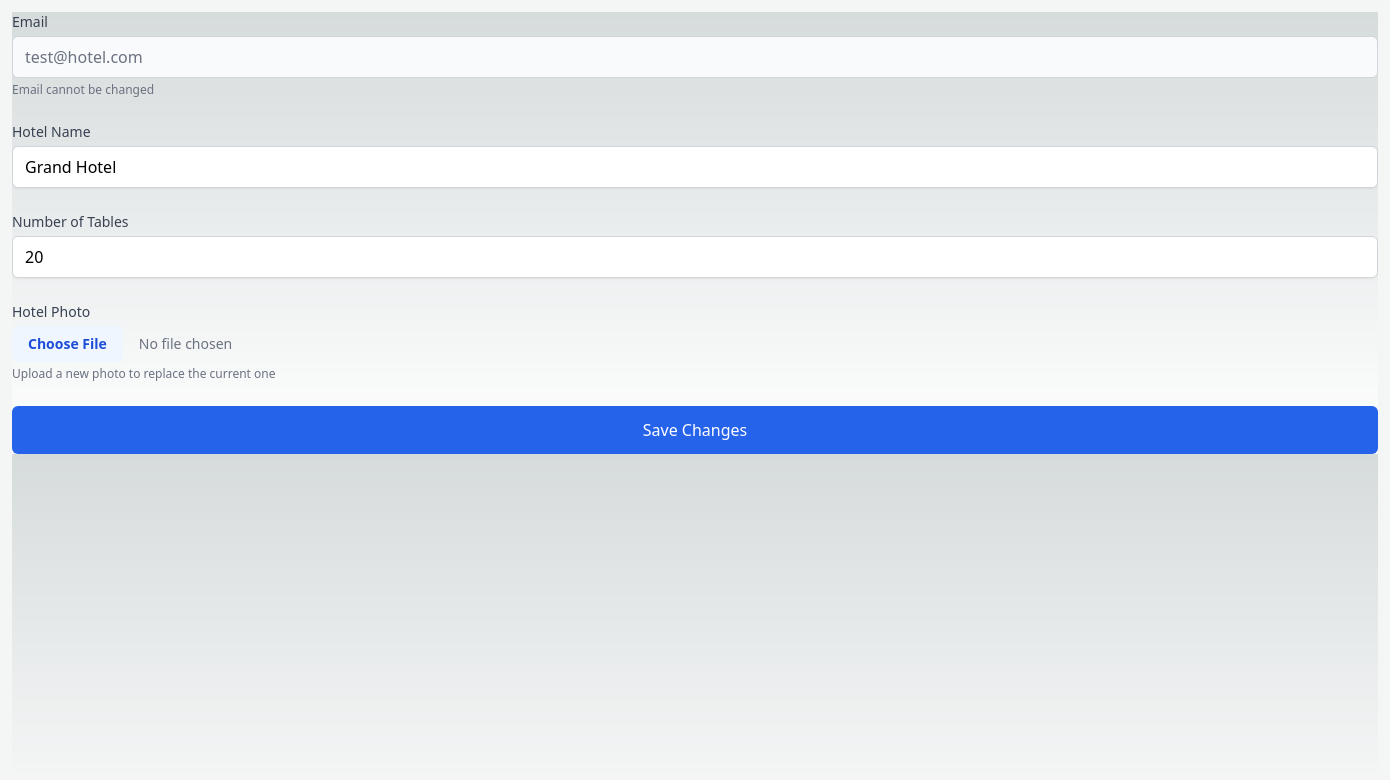
ProfileForm › disables submit button while submitting
Type "Updated Hotel" into the field labelled "Hotel Name".
click(695, 167); type("Updated Hotel")  # box [12, 146, 1378, 188]
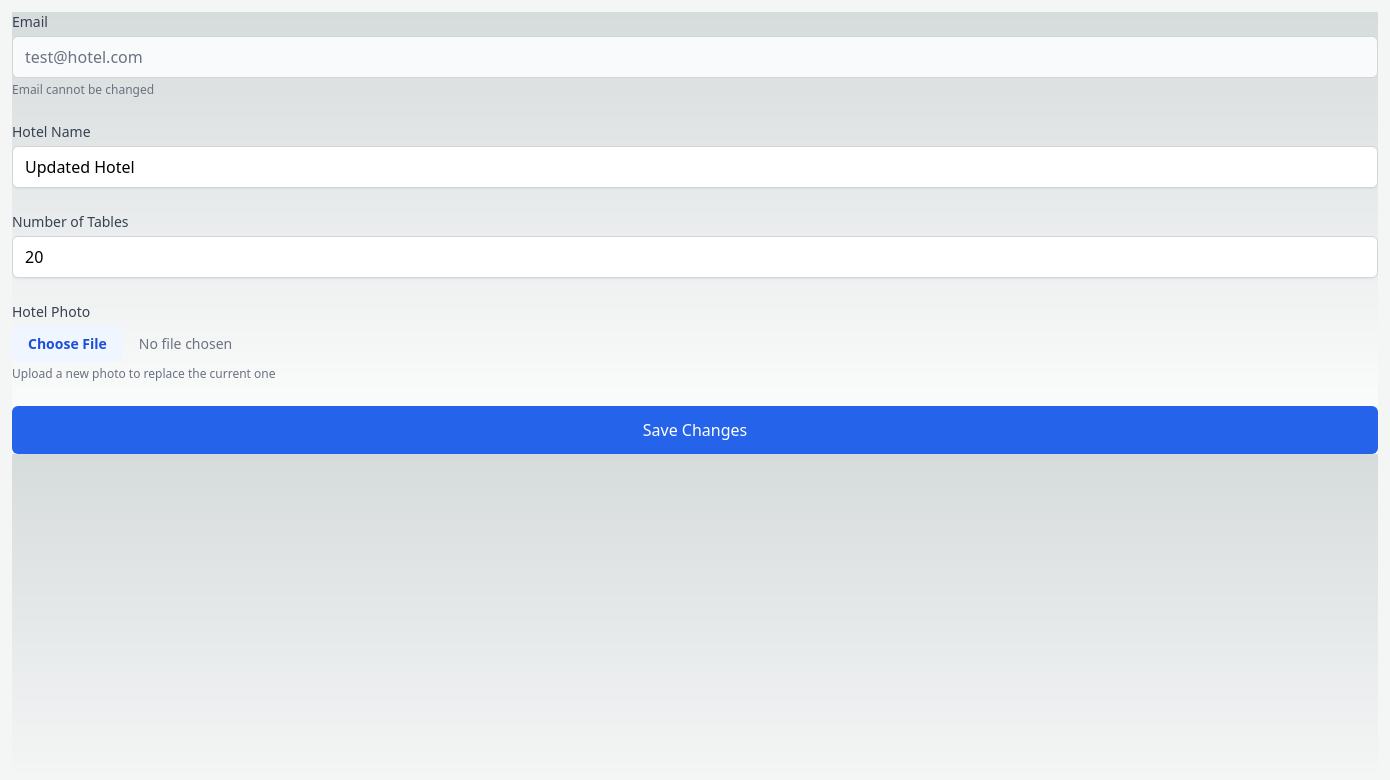
Click the button "Save Changes".
click(695, 430)  # box [12, 406, 1378, 454]
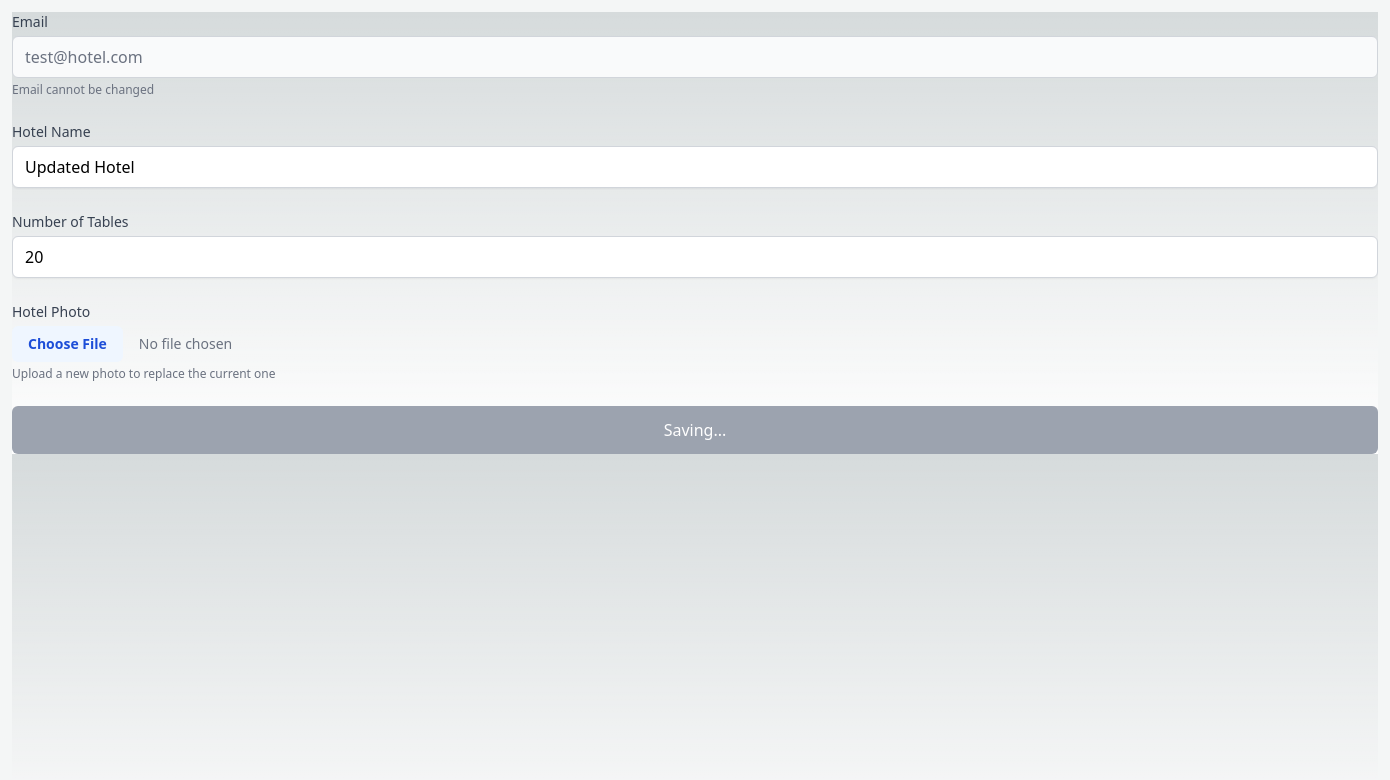
expect the button "Saving..." is disabled: met, box [12, 406, 1378, 454]
